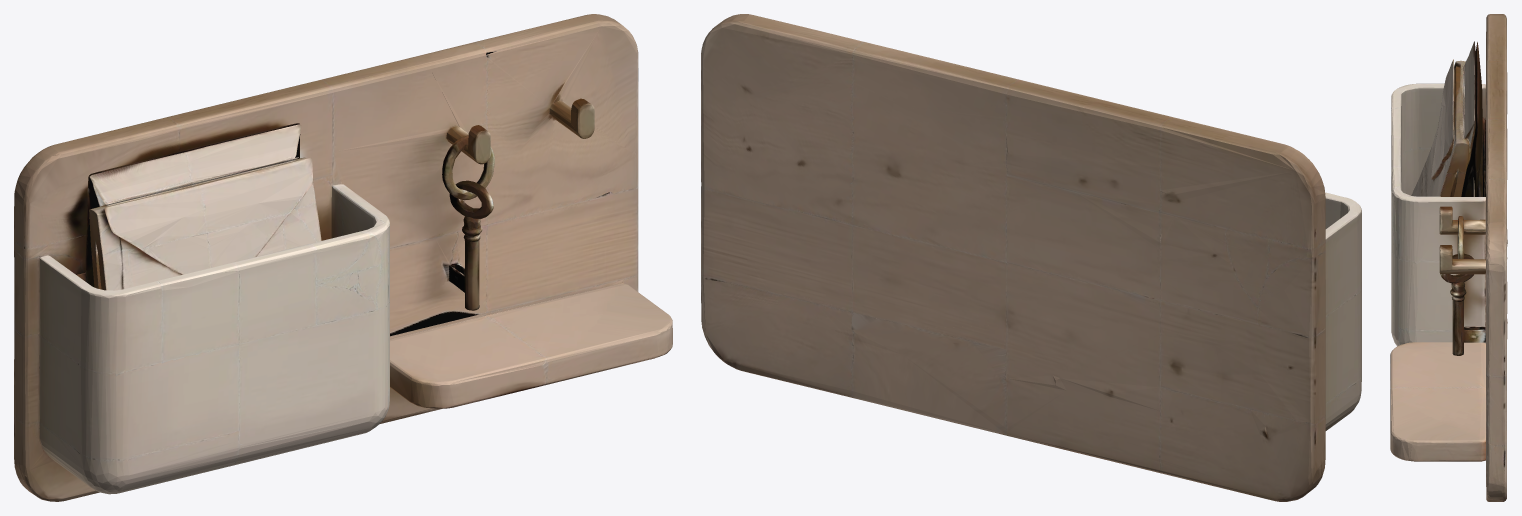
The model's file is corridor-letter-rack.glb.
The picture shows the model from 3 angles, left to right: view 1: azimuth 30°, elevation 25°; view 2: azimuth 150°, elevation 25°; view 3: azimuth 270°, elevation 25°; orthographic projection. The views are drawn at different scales.
Parts seen in each view (by area): view 1: tmpfs019d5b.obj; view 2: tmpfs019d5b.obj; view 3: tmpfs019d5b.obj.
Part boxes in pixels (<box>): tmpfs019d5b.obj: <box>14,14,672,501</box>; tmpfs019d5b.obj: <box>701,14,1361,501</box>; tmpfs019d5b.obj: <box>1390,14,1507,501</box>.
Size of the model in its own units: 1.48 by 0.8045 by 0.3098.
1 material, 1 textured.
